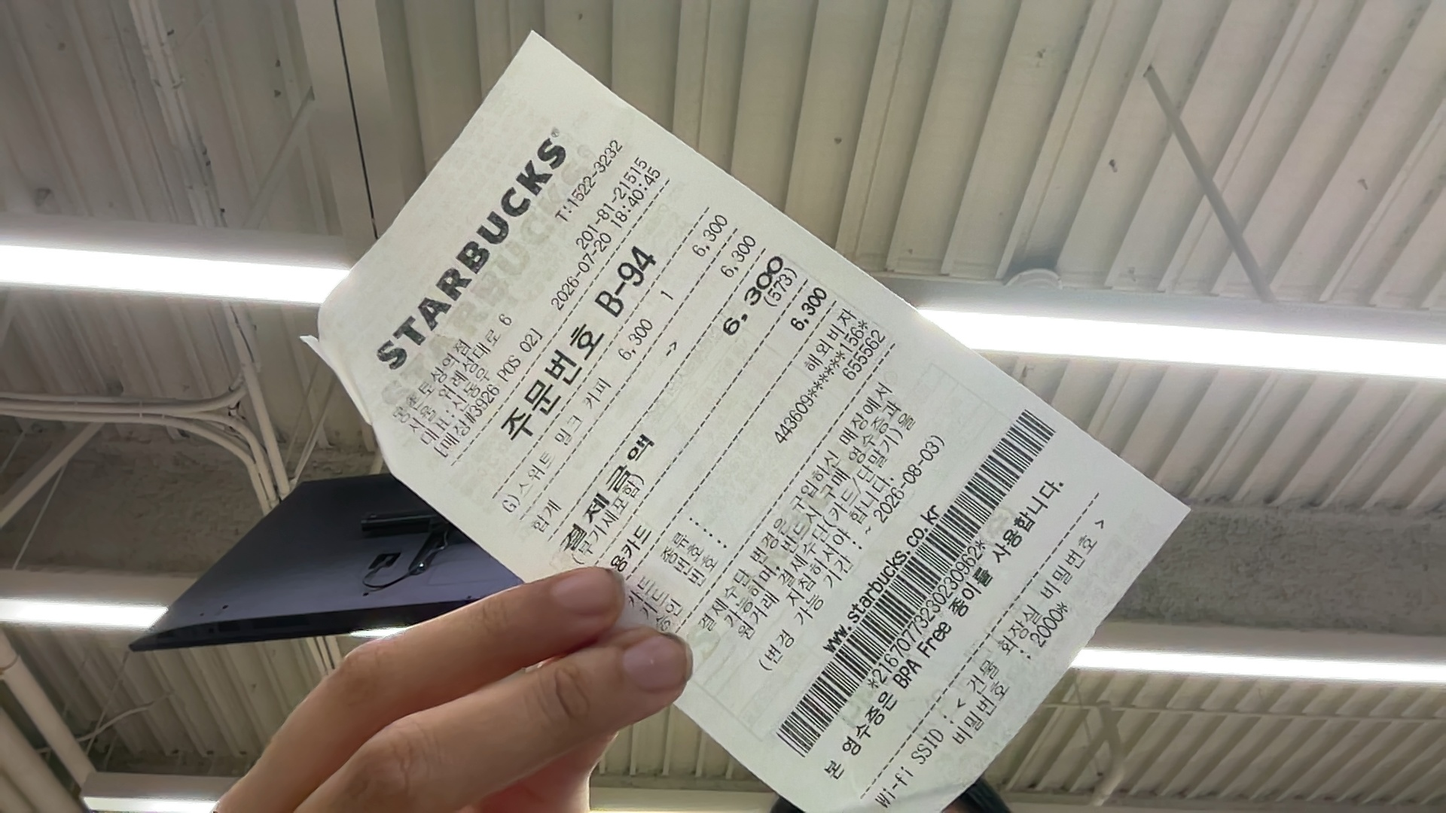Paper: (4, 403, 283, 608)
